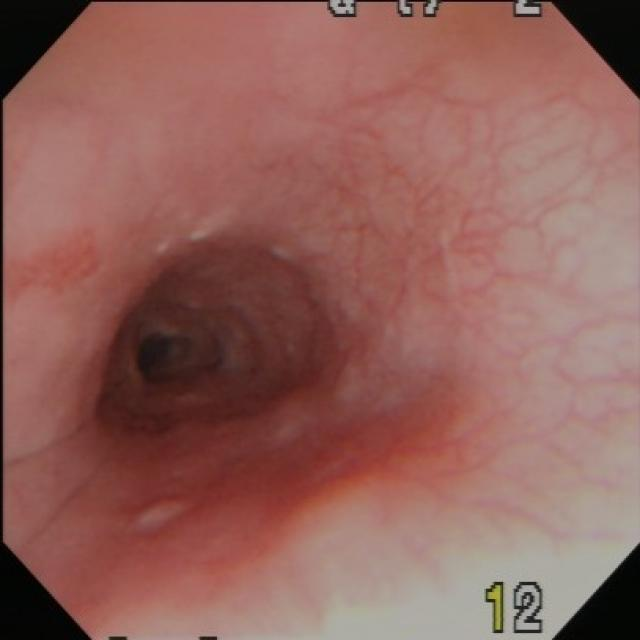A: (240, 398, 473, 530), (4, 222, 108, 312)
E: (122, 309, 228, 403)
J: (133, 496, 198, 533), (153, 223, 215, 256)
S: (485, 581, 547, 636), (325, 3, 545, 18)
